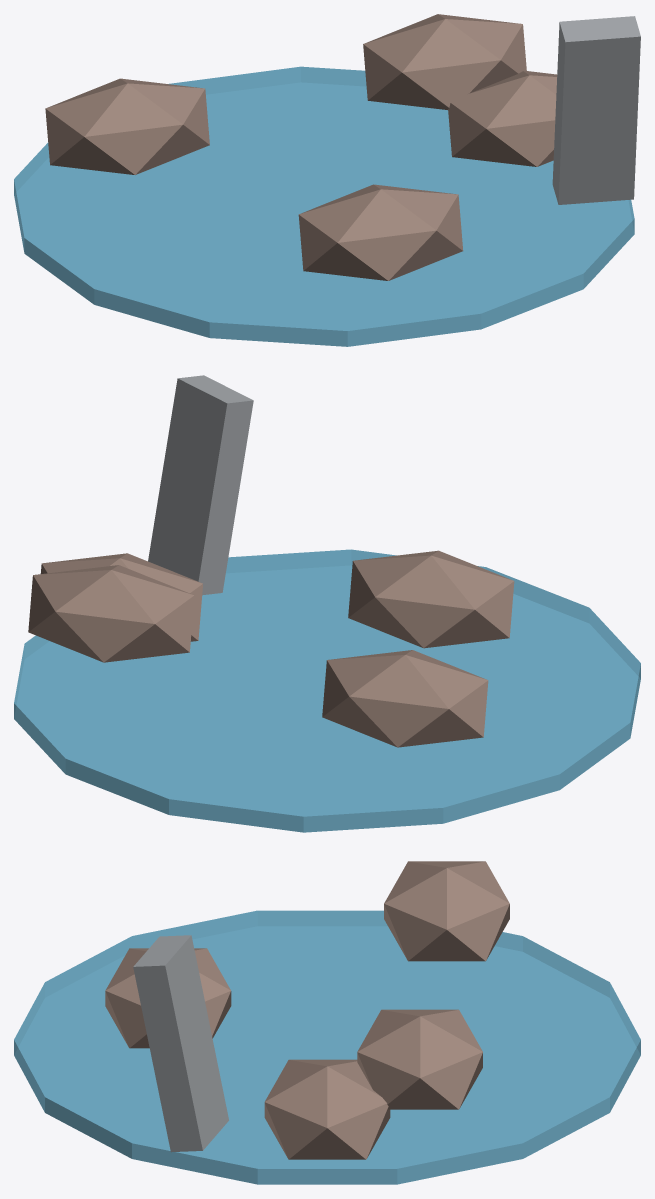
File: briarfen_clay_bank.lod1.glb
The picture shows the model from 3 angles, top to bottom: view 1: azimuth 30°, elevation 25°; view 2: azimuth 150°, elevation 25°; view 3: azimuth 270°, elevation 25°; orthographic projection.
Size of the model in its own units: 1.81 by 0.6392 by 1.8.
